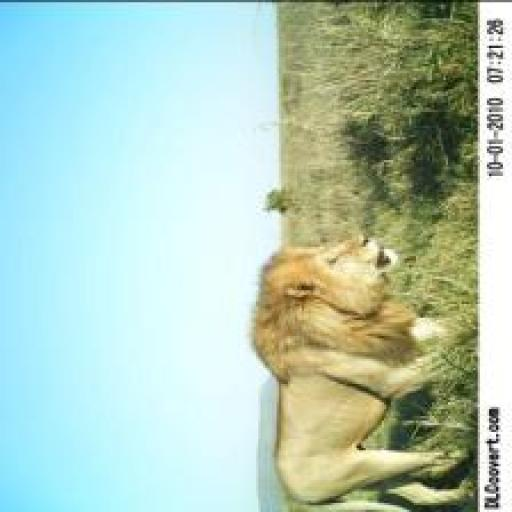lion: (229, 219, 480, 512)
